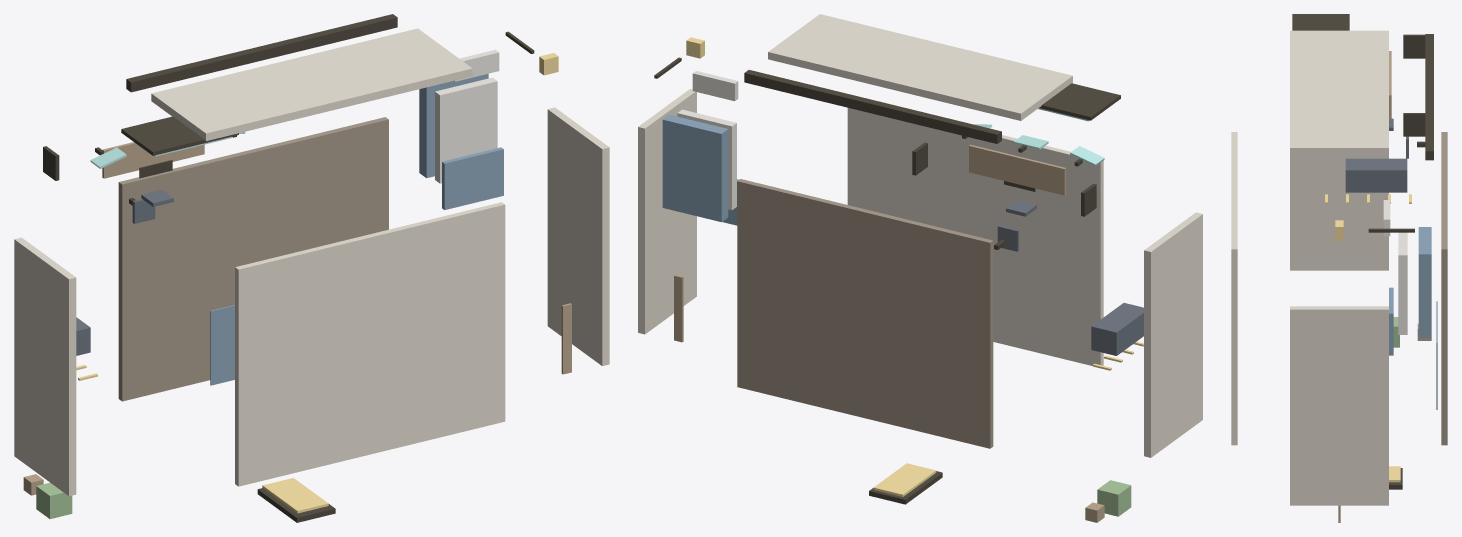
The model's file is apartment-interior.glb.
The picture shows the model from 3 angles, left to right: view 1: azimuth 30°, elevation 25°; view 2: azimuth 150°, elevation 25°; view 3: azimuth 270°, elevation 25°; orthographic projection. The views are drawn at different scales.
Visible parts, largest first — view 1: cel_int_wall, cel_int_floor, cel_int_trim, cel_int_bed, cel_int_sheet, cel_int_desk, cel_int_warm, cel_int_rack, cel_int_plant; view 2: cel_int_wall, cel_int_floor, cel_int_trim, cel_int_bed, cel_int_desk, cel_int_rack, cel_int_sheet, cel_int_warm, cel_int_plant, cel_int_screen; view 3: cel_int_wall, cel_int_trim, cel_int_rack, cel_int_floor, cel_int_bed, cel_int_sheet, cel_int_warm, cel_int_desk.
Boxes of the visible parts, x1=… form: cel_int_wall: x1=14, y1=28, x2=609, y2=496; cel_int_floor: x1=118, y1=117, x2=388, y2=401; cel_int_trim: x1=43, y1=14, x2=534, y2=522; cel_int_bed: x1=210, y1=73, x2=503, y2=385; cel_int_sheet: x1=435, y1=49, x2=499, y2=183; cel_int_desk: x1=23, y1=142, x2=571, y2=495; cel_int_warm: x1=76, y1=53, x2=558, y2=513; cel_int_rack: x1=76, y1=189, x2=173, y2=355; cel_int_plant: x1=36, y1=482, x2=72, y2=518; cel_int_wall: x1=638, y1=14, x2=1202, y2=457; cel_int_floor: x1=737, y1=179, x2=993, y2=448; cel_int_trim: x1=654, y1=57, x2=1120, y2=504; cel_int_bed: x1=662, y1=114, x2=738, y2=225; cel_int_desk: x1=674, y1=144, x2=1104, y2=522; cel_int_rack: x1=997, y1=200, x2=1143, y2=355; cel_int_sheet: x1=677, y1=71, x2=738, y2=209; cel_int_warm: x1=686, y1=37, x2=1143, y2=496; cel_int_plant: x1=1097, y1=480, x2=1131, y2=516; cel_int_screen: x1=973, y1=108, x2=1104, y2=166; cel_int_wall: x1=1231, y1=30, x2=1388, y2=505; cel_int_trim: x1=1292, y1=14, x2=1433, y2=489; cel_int_rack: x1=1345, y1=118, x2=1408, y2=192; cel_int_floor: x1=1441, y1=132, x2=1447, y2=445; cel_int_bed: x1=1389, y1=227, x2=1437, y2=409; cel_int_sheet: x1=1383, y1=200, x2=1407, y2=334; cel_int_warm: x1=1325, y1=194, x2=1411, y2=482; cel_int_desk: x1=1338, y1=51, x2=1431, y2=522.
Bounding box in the file's own units: 9.12 × 7 × 3.5.
